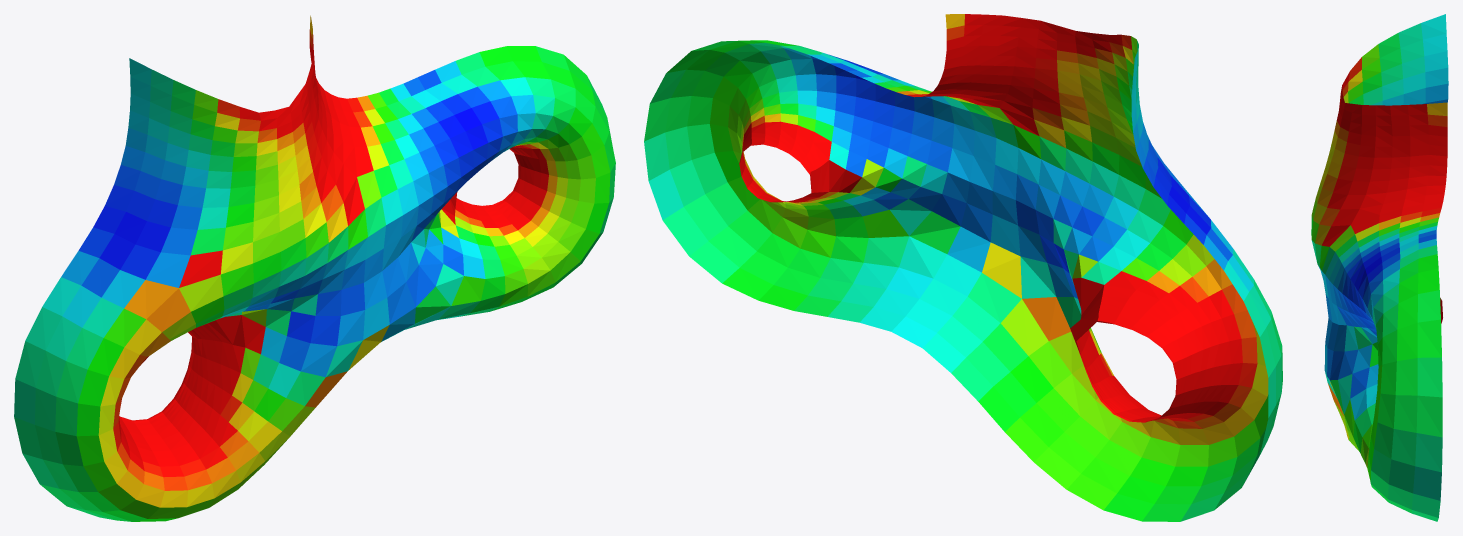
Rendered from aquadom_quad_no_opt_quality.obj.
3 views of the same model, side by side, from view 1: azimuth 30°, elevation 25°; view 2: azimuth 150°, elevation 25°; view 3: azimuth 270°, elevation 25° (orthographic). The views are drawn at different scales.
Size of the model in its own units: 68.53 by 49.61 by 13.82.
